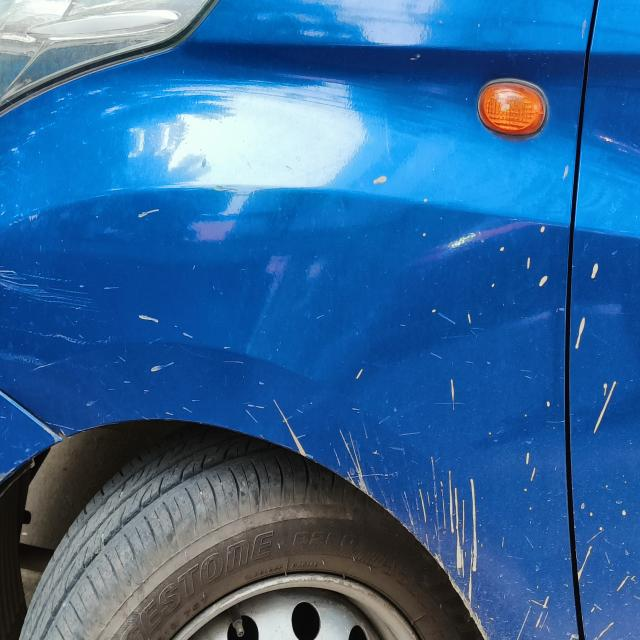scratch: (0, 253, 109, 321), (2, 324, 126, 355)
